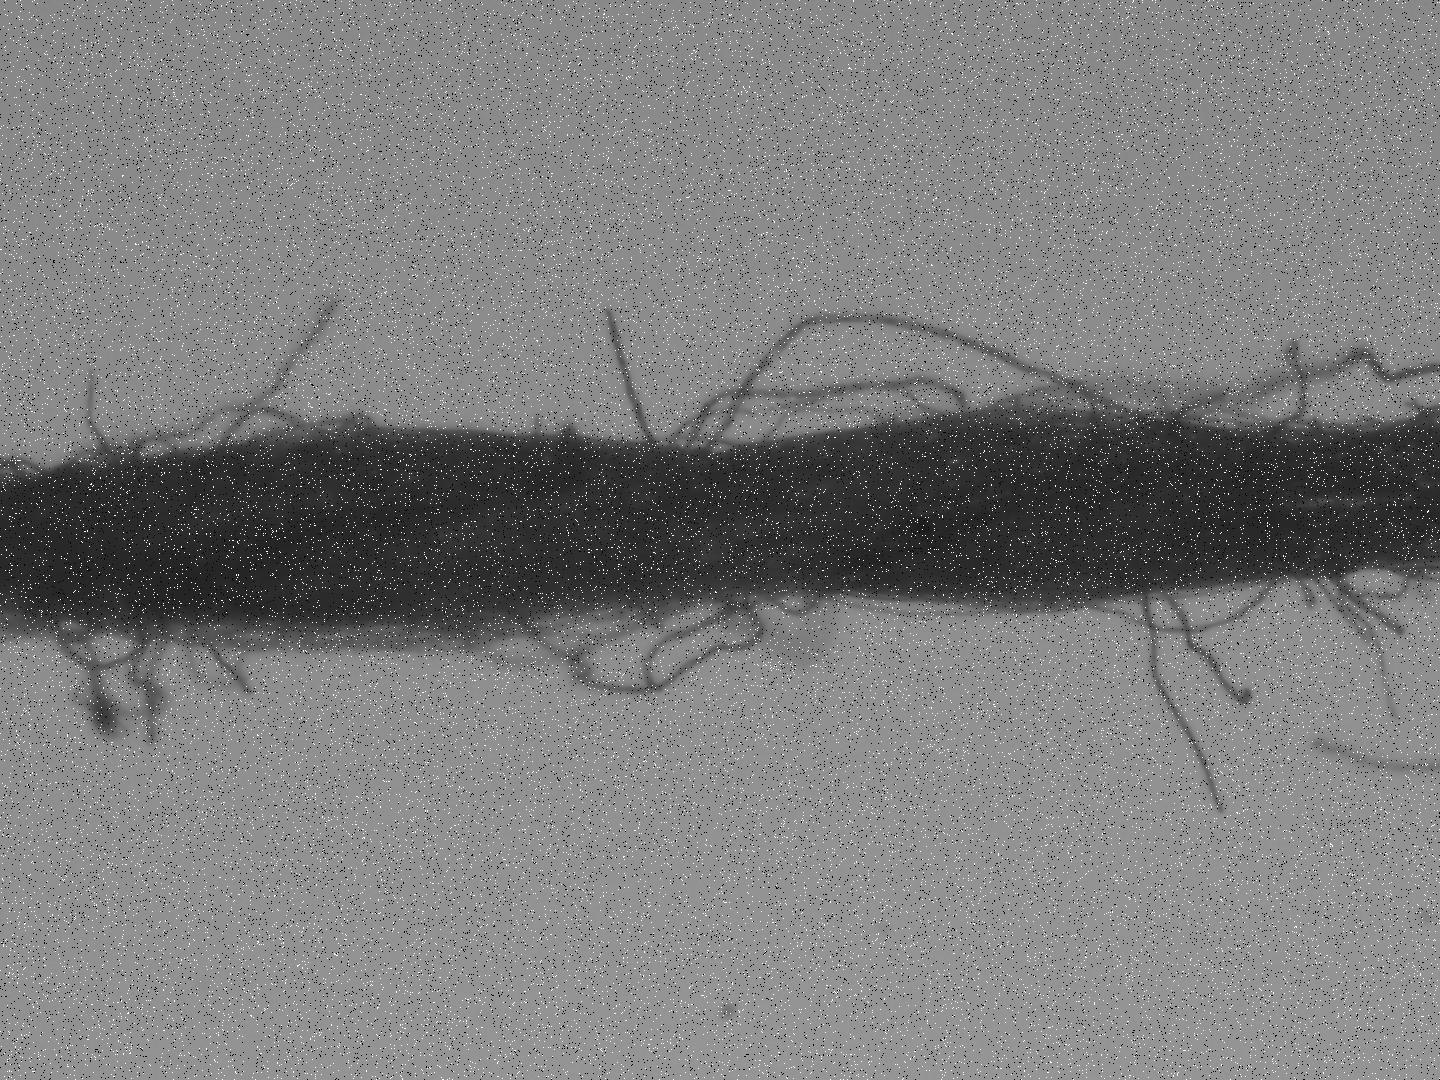loop_fiber: (701, 305, 1115, 455), (569, 591, 759, 697), (1090, 579, 1279, 632), (49, 618, 143, 672), (215, 404, 312, 448), (1166, 411, 1269, 438), (759, 588, 828, 619), (1337, 574, 1415, 598), (121, 434, 179, 465)
protruding_fiber: (1136, 591, 1220, 815), (217, 297, 338, 444), (1168, 590, 1255, 704), (602, 311, 646, 447), (84, 366, 109, 458)
